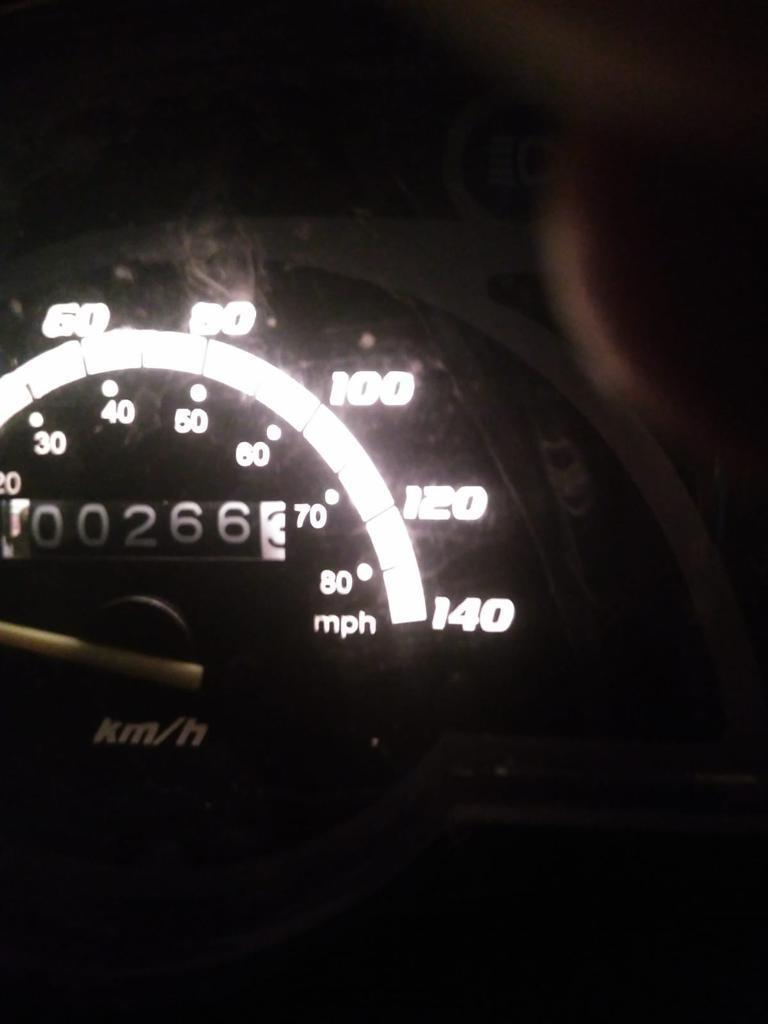0: (75, 500, 110, 548), (30, 502, 64, 550)
2: (121, 502, 159, 548)
3: (267, 509, 290, 549)
6: (168, 500, 205, 545), (216, 499, 250, 545)
odometer: (0, 490, 293, 563)
